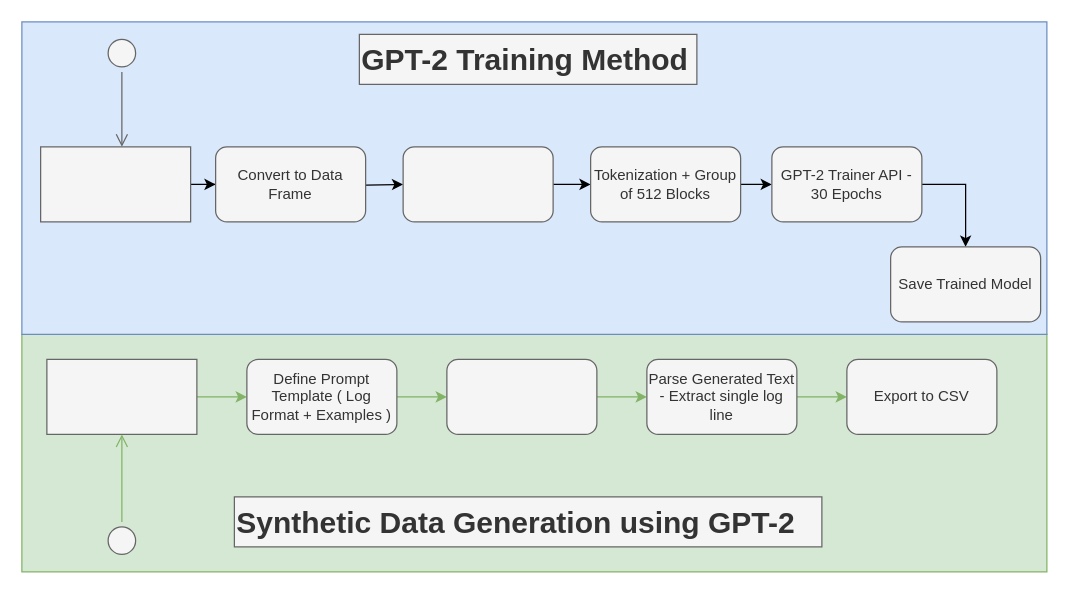
The diagram is 1069 pixels wide and 594 high, and some of its shapes have lost their labels. Here are the shapes that lost their labels. From the top down, the centre of each, then its label:
At (115,184): "Raw Linux Log Sample".
At (477,184): "Tokenizer (GPT-2) - Set Paddings".
At (121,396): "Load Trained Model".
At (521,396): "Batch Synthetic Data Generation - temp = 1.5, top_p=0.9".
